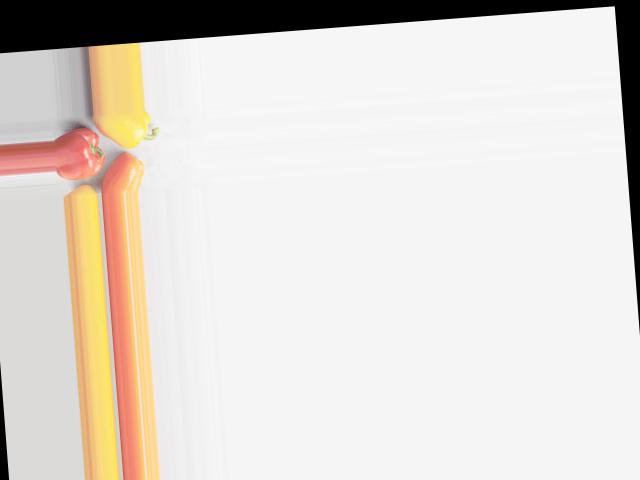bell_pepper: (54, 122, 104, 180)
